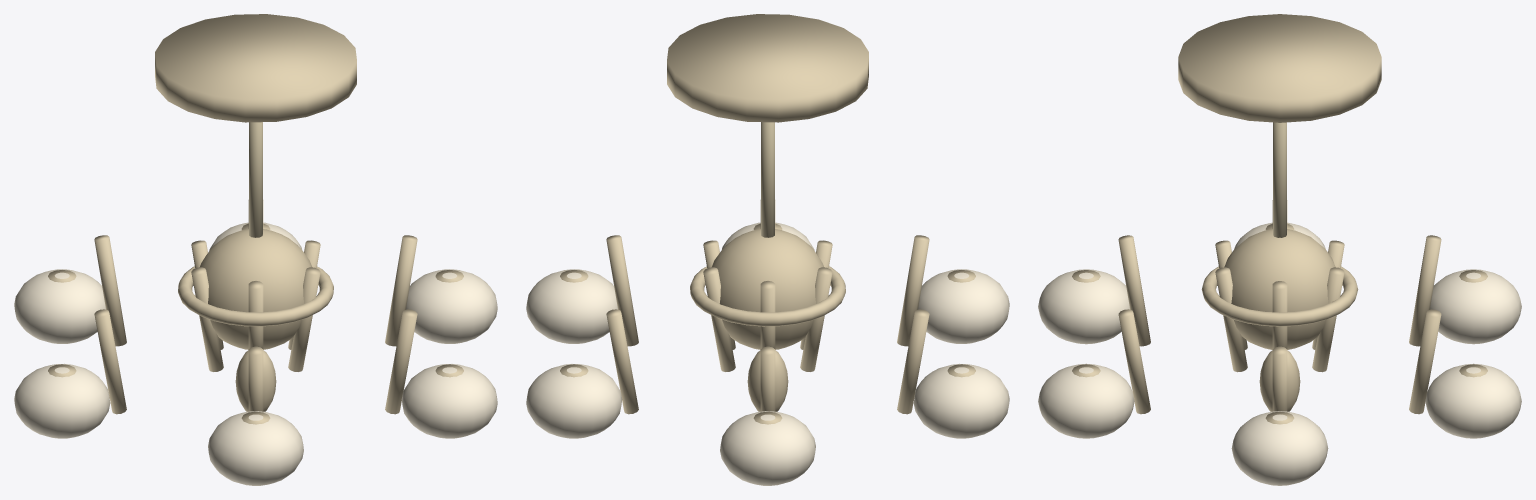
File: chandelier.glb
3 renders of one model, left to right at view 1: azimuth 30°, elevation 25°; view 2: azimuth 150°, elevation 25°; view 3: azimuth 270°, elevation 25°, orthographic.
Visible parts, largest first — view 1: Chandelier; view 2: Chandelier; view 3: Chandelier.
Boxes of the visible parts, left/top/right/bottom form: Chandelier: left=14, top=14, right=497, bottom=485; Chandelier: left=526, top=14, right=1009, bottom=485; Chandelier: left=1038, top=14, right=1521, bottom=485.
Bounding box in the file's own units: 1.07 × 0.777 × 0.9521.
